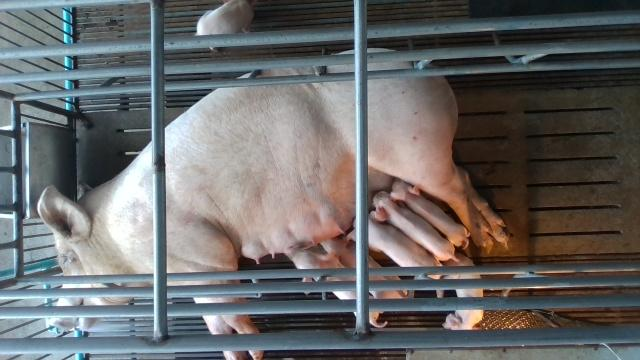piglet: (284, 247, 387, 329), (371, 190, 460, 262), (348, 211, 441, 279), (319, 238, 414, 299), (390, 180, 470, 251), (437, 251, 483, 332), (198, 0, 255, 50)
sow-sleep-lactate: (37, 48, 511, 360)
